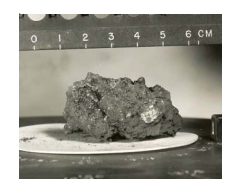Breccia: (57, 61, 179, 144)
